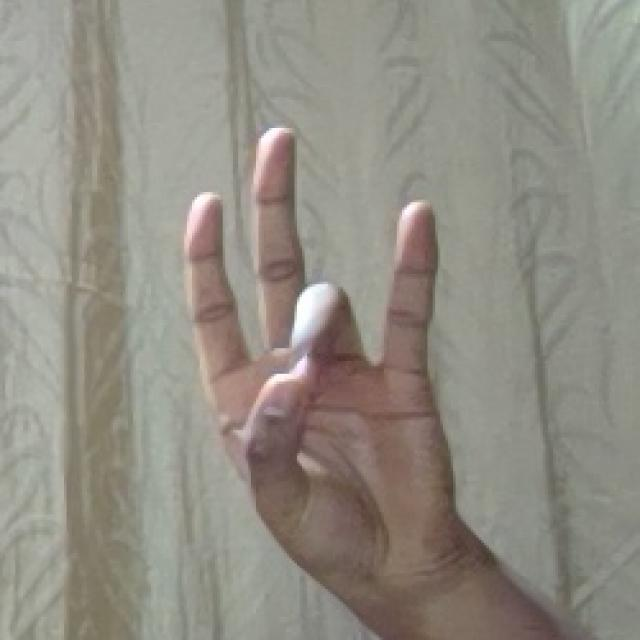Numeric-7: (170, 117, 470, 618)
